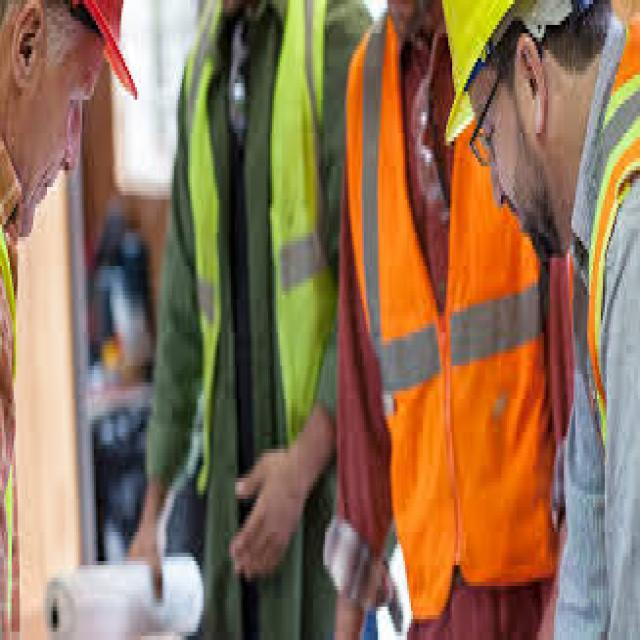Reflective-Jacket: (346, 16, 556, 624), (176, 8, 358, 511), (581, 0, 640, 632)
Safety-Helmet: (436, 0, 554, 137), (0, 0, 145, 100)
